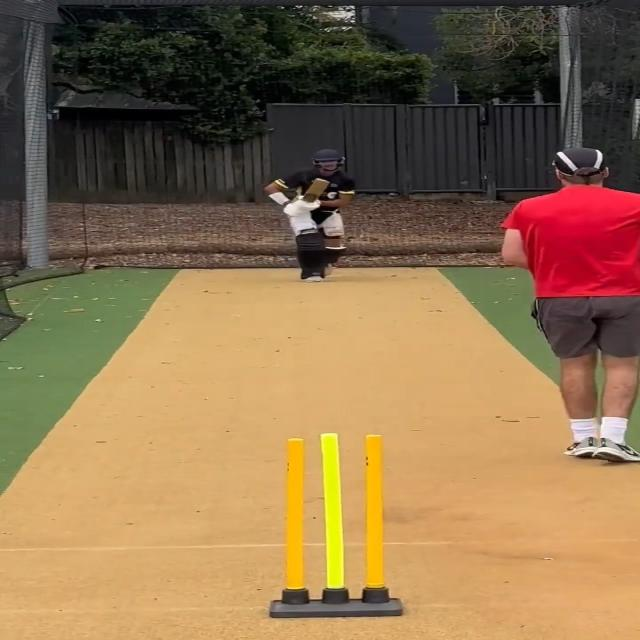stump: (267, 431, 407, 619)
